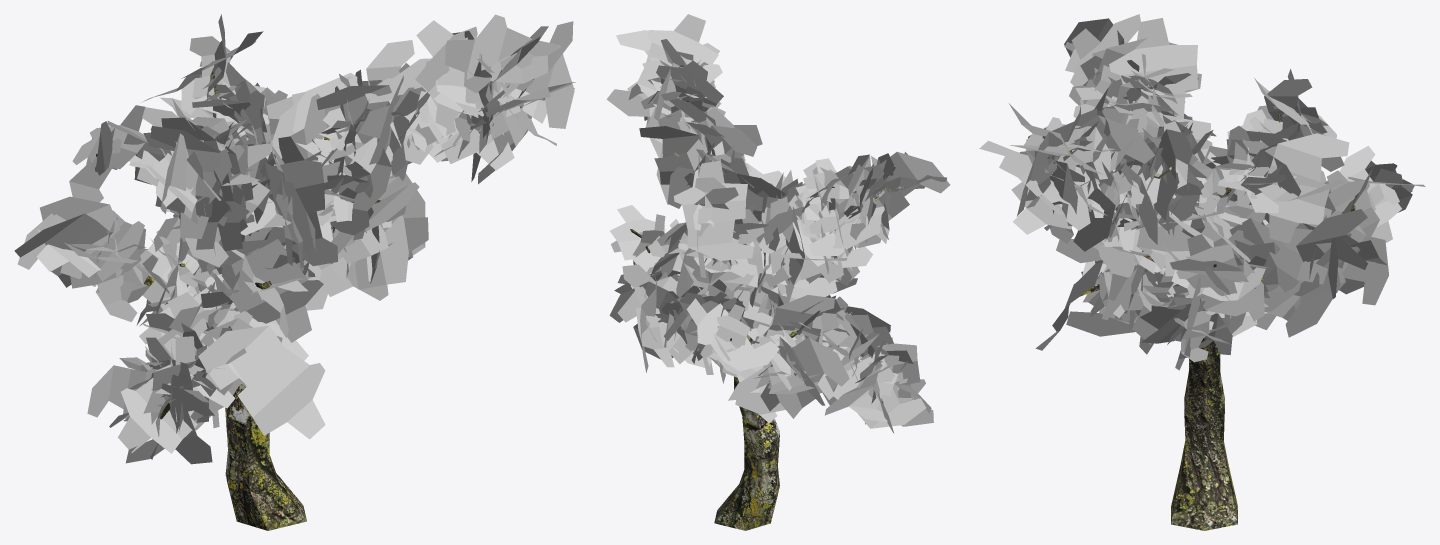
Rendered from tree.gltf.
The picture shows the model from 3 angles, left to right: view 1: azimuth 30°, elevation 25°; view 2: azimuth 150°, elevation 25°; view 3: azimuth 270°, elevation 25°; orthographic projection. The views are drawn at different scales.
Parts seen in each view (by area): view 1: Tree_particle; view 2: Tree_particle; view 3: Tree_particle.
Part boxes in pixels (x1=…): Tree_particle: x1=14, y1=14, x2=575, y2=530; Tree_particle: x1=606, y1=14, x2=950, y2=530; Tree_particle: x1=979, y1=14, x2=1425, y2=530.
Size of the model in its own units: 14.86 by 16.81 by 13.96.
